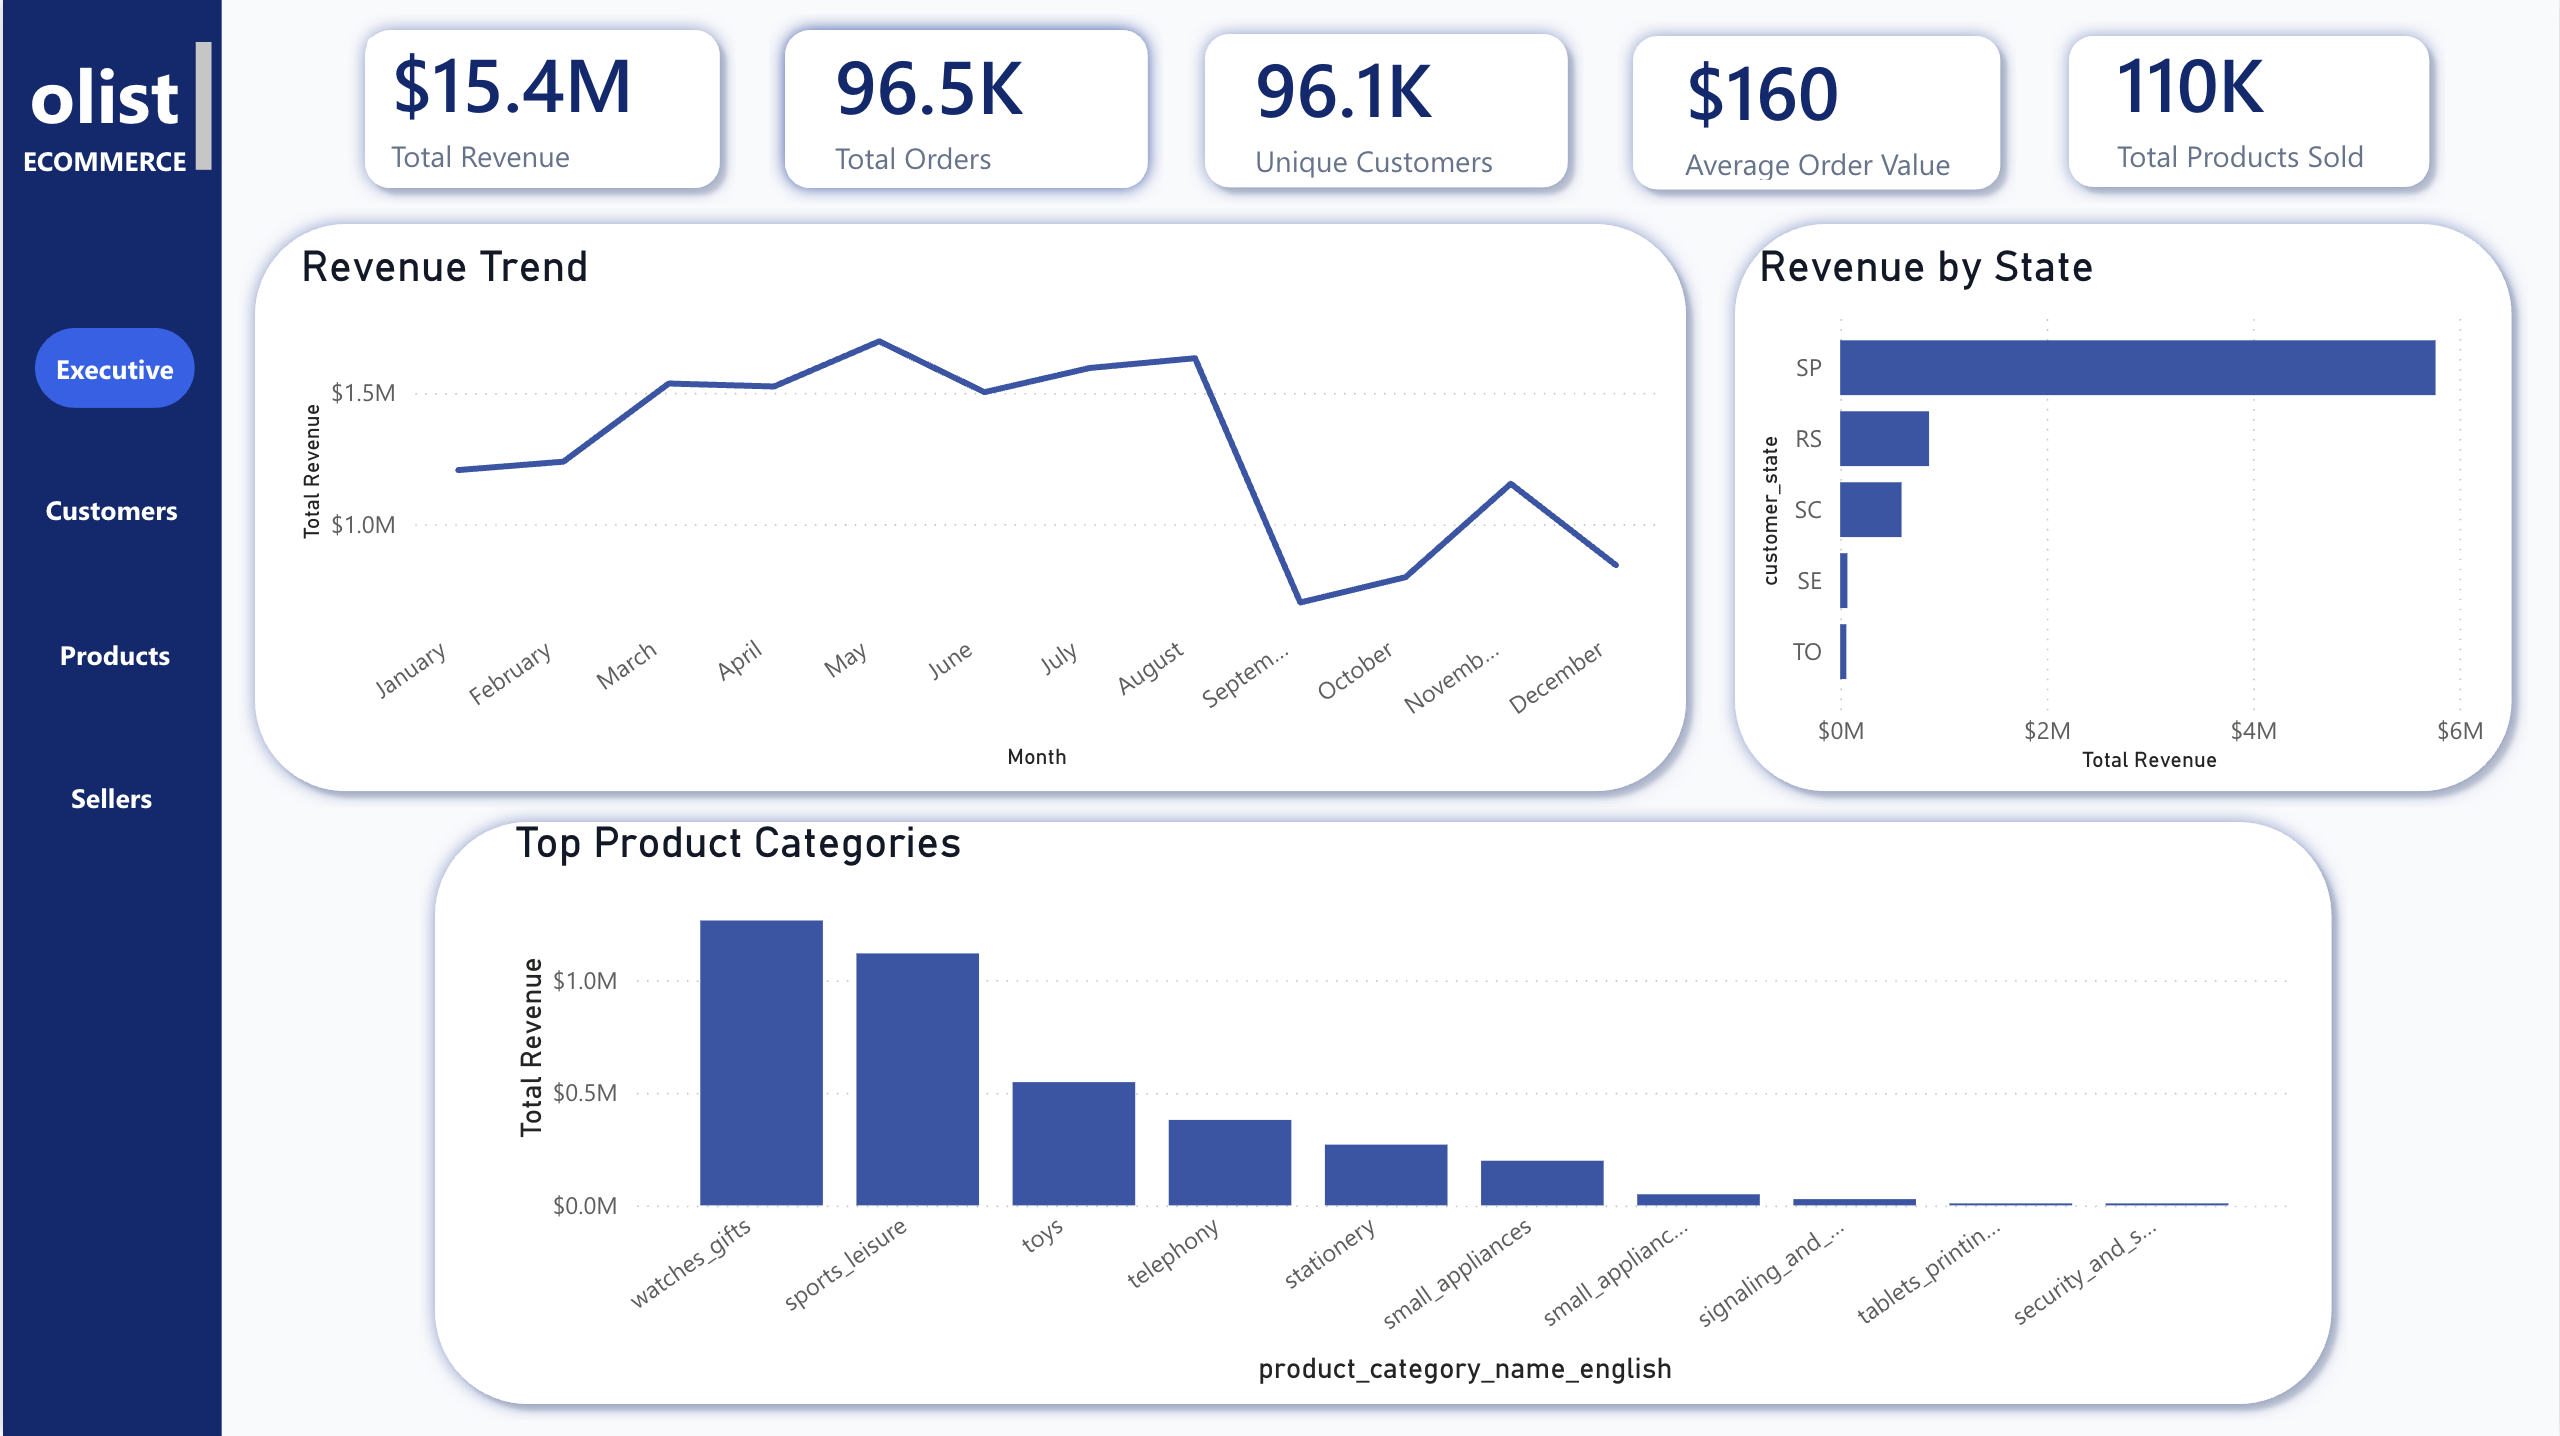

This screenshot's page, from the dashboard's own definition file:
{"tool":"powerbi","page":{"name":"Executive Overview","canvas":[1280,720],"ordinal":0},"visuals":[{"type":"shape","box":[172.9,8.3,193.7,95.2],"z":0,"group":"g5"},{"type":"shape","box":[383.5,8.6,197.6,95.2],"z":0,"group":"g4"},{"type":"shape","box":[593.1,10.7,197.6,92.8],"z":0,"group":"g6"},{"type":"shape","box":[1025.6,11,196.4,91.6],"z":0,"group":"g8"},{"type":"shape","box":[807.4,11.7,200,92.8],"z":0,"group":"g7"},{"type":"group","id":"g1","title":"Group 1","box":[118.1,104.8,732.5,300],"z":0},{"type":"shape","box":[118.1,104.8,732.5,300],"z":0,"group":"g1"},{"type":"shape","box":[859,104.8,404.8,300],"z":0,"group":"g3"},{"type":"shape","box":[207.9,404.8,965.5,307.5],"z":0,"group":"g2"},{"type":"cardVisual","fields":{"Data":["Measures (2).Unique Customers"]},"box":[601.8,7.2,184.3,95.2],"z":1000,"group":"g6"},{"type":"cardVisual","fields":{"Data":["fact_sales.Total Products Sold"]},"box":[1033.7,7.2,183.1,90.4],"z":1000,"group":"g8"},{"type":"cardVisual","fields":{"Data":["fact_sales.Total Revenue"]},"box":[169.9,7.7,196.4,90.4],"z":1000,"group":"g5"},{"type":"cardVisual","fields":{"Data":["fact_sales.Total Orders"]},"box":[392.5,8.2,183.4,90.4],"z":1000,"group":"g4"},{"type":"cardVisual","fields":{"Data":["fact_sales.Average Order Value"]},"box":[817.5,9.3,185.5,94.1],"z":1000,"group":"g7"},{"type":"lineChart","title":"Revenue Trend","fields":{"Y":["fact_sales.Total Revenue"],"Category":["dim_date.date_key.Variation.Date Hierarchy.Year","dim_date.date_key.Variation.Date Hierarchy.Month"]},"box":[149.4,124.1,679.5,261.4],"z":1000},{"type":"group","id":"g2","title":"Group 1","box":[207.9,404.8,965.5,307.5],"z":1500},{"type":"columnChart","title":"Top Product Categories","fields":{"Category":["dim_product.product_category_name_english"],"Y":["fact_sales.Total Revenue"]},"box":[251.1,412.5,900.3,286.5],"z":2000},{"type":"group","id":"g3","title":"Group 1","box":[859,104.8,404.8,300],"z":2500},{"type":"barChart","title":"Revenue by State","fields":{"Category":["dim_customer.customer_state"],"Y":["fact_sales.Total Revenue"]},"box":[879.5,124.1,362.7,262.7],"z":3000},{"type":"shape","box":[0,0,109.6,720.5],"z":4000},{"type":"textbox","box":[0,16.9,109.6,75.9],"z":5000},{"type":"actionButton","box":[15.7,165.1,80,40],"z":6000},{"type":"actionButton","box":[14.5,234.9,80.7,41],"z":7000},{"type":"actionButton","box":[14.5,379.5,80.7,41],"z":8000},{"type":"actionButton","box":[15.7,308.4,80,40],"z":9000},{"type":"group","id":"g4","title":"Group 1","box":[383.5,8.2,197.6,95.2],"z":10000,"group":"g9"},{"type":"group","id":"g5","title":"Group 2","box":[169.9,7.7,196.7,95.7],"z":11000,"group":"g9"},{"type":"group","id":"g6","title":"Group 1","box":[593.1,7.2,197.6,96.2],"z":12000,"group":"g9"},{"type":"group","id":"g7","title":"Group 1","box":[807.4,9.3,200,95.2],"z":13000,"group":"g9"},{"type":"group","id":"g8","title":"Group 1","box":[1025.6,7.2,196.4,95.4],"z":14000,"group":"g9"},{"type":"group","id":"g9","title":"Group 3","box":[169.9,7.2,1052.1,97.3],"z":14001}]}

Visuals, with their boxes on the page's 1280x720 design canvas (x1, y1, x2, y2). These are canvas units, not pixel positions in the 2560x1436 screenshot, which may show the page scaled, cropped or inside an application window:
shape: region(173, 8, 367, 104)
shape: region(384, 9, 581, 104)
shape: region(593, 11, 791, 104)
shape: region(1026, 11, 1222, 103)
shape: region(807, 12, 1007, 104)
"Group 1" group: region(118, 105, 851, 405)
shape: region(118, 105, 851, 405)
shape: region(859, 105, 1264, 405)
shape: region(208, 405, 1173, 712)
cardVisual - Measures (2).Unique Customers: region(602, 7, 786, 102)
cardVisual - fact_sales.Total Products Sold: region(1034, 7, 1217, 98)
cardVisual - fact_sales.Total Revenue: region(170, 8, 366, 98)
cardVisual - fact_sales.Total Orders: region(392, 8, 576, 99)
cardVisual - fact_sales.Average Order Value: region(818, 9, 1003, 103)
"Revenue Trend" lineChart: region(149, 124, 829, 386)
"Group 1" group: region(208, 405, 1173, 712)
"Top Product Categories" columnChart: region(251, 412, 1151, 699)
"Group 1" group: region(859, 105, 1264, 405)
"Revenue by State" barChart: region(880, 124, 1242, 387)
shape: region(0, 0, 110, 720)
textbox: region(0, 17, 110, 93)
actionButton: region(16, 165, 96, 205)
actionButton: region(14, 235, 95, 276)
actionButton: region(14, 380, 95, 420)
actionButton: region(16, 308, 96, 348)
"Group 1" group: region(384, 8, 581, 103)
"Group 2" group: region(170, 8, 367, 103)
"Group 1" group: region(593, 7, 791, 103)
"Group 1" group: region(807, 9, 1007, 104)
"Group 1" group: region(1026, 7, 1222, 103)
"Group 3" group: region(170, 7, 1222, 104)
